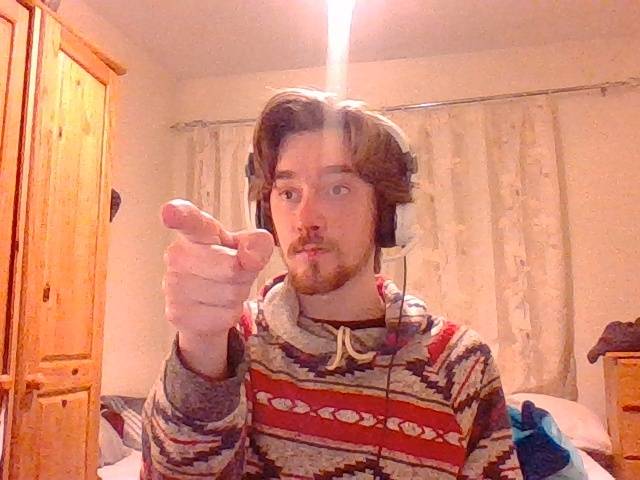you: (159, 199, 274, 357)
